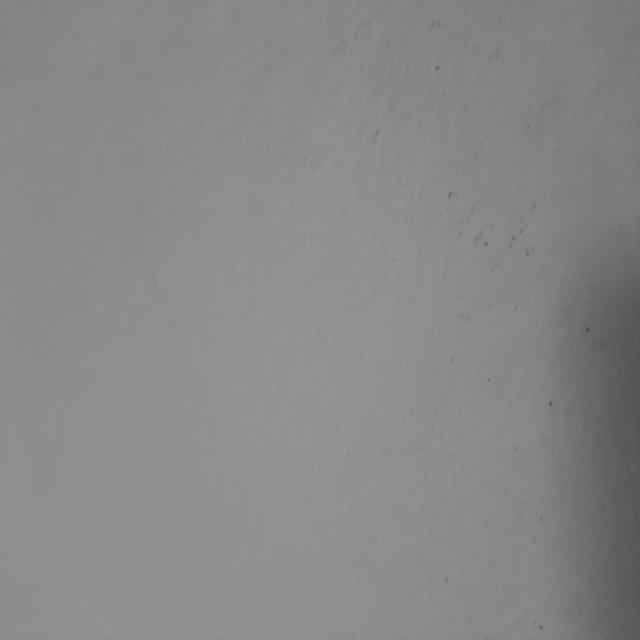rough and patchy surface: (200, 1, 633, 629)
